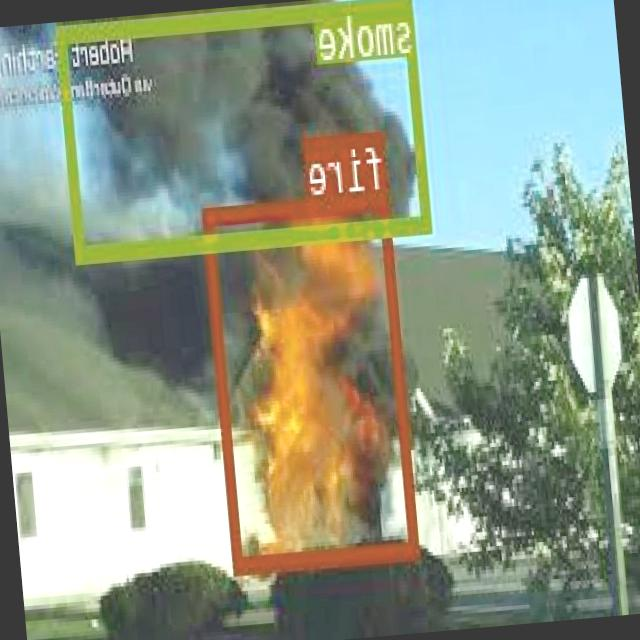fire: (204, 189, 420, 572)
smoke: (57, 0, 432, 257)
